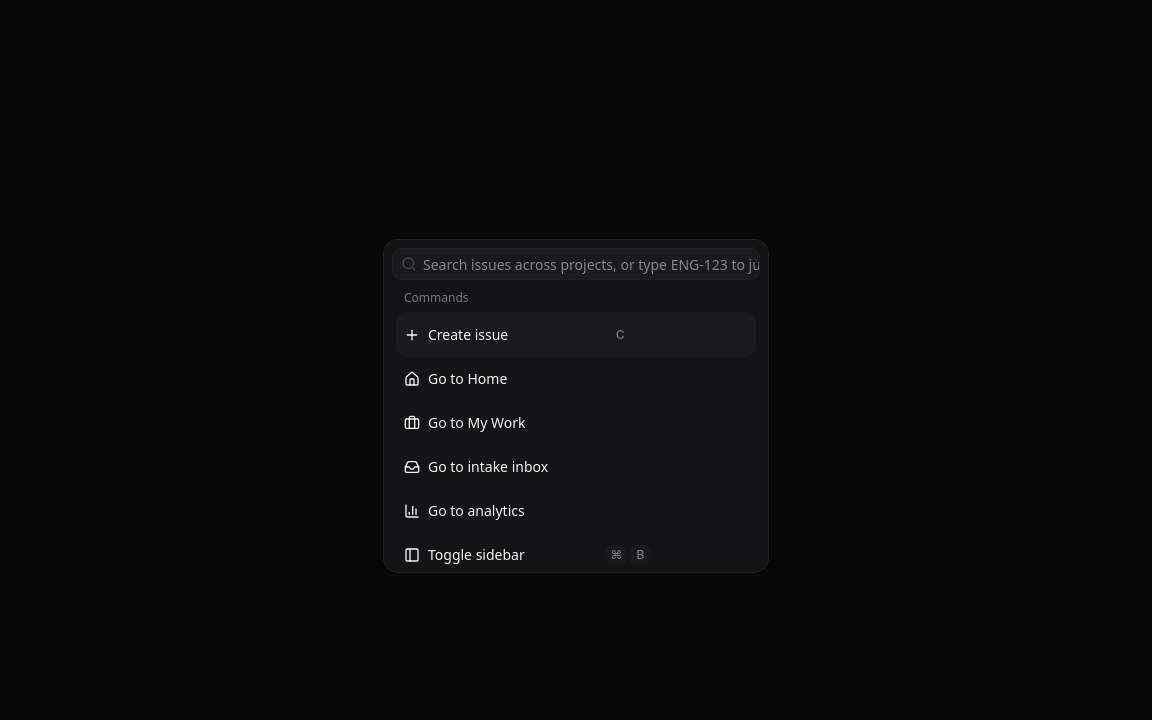
Test: global command palette › Backspace on the empty picker input returns to the root page
Click the option "Create issue C": [468, 334] box [396,312,756,357]
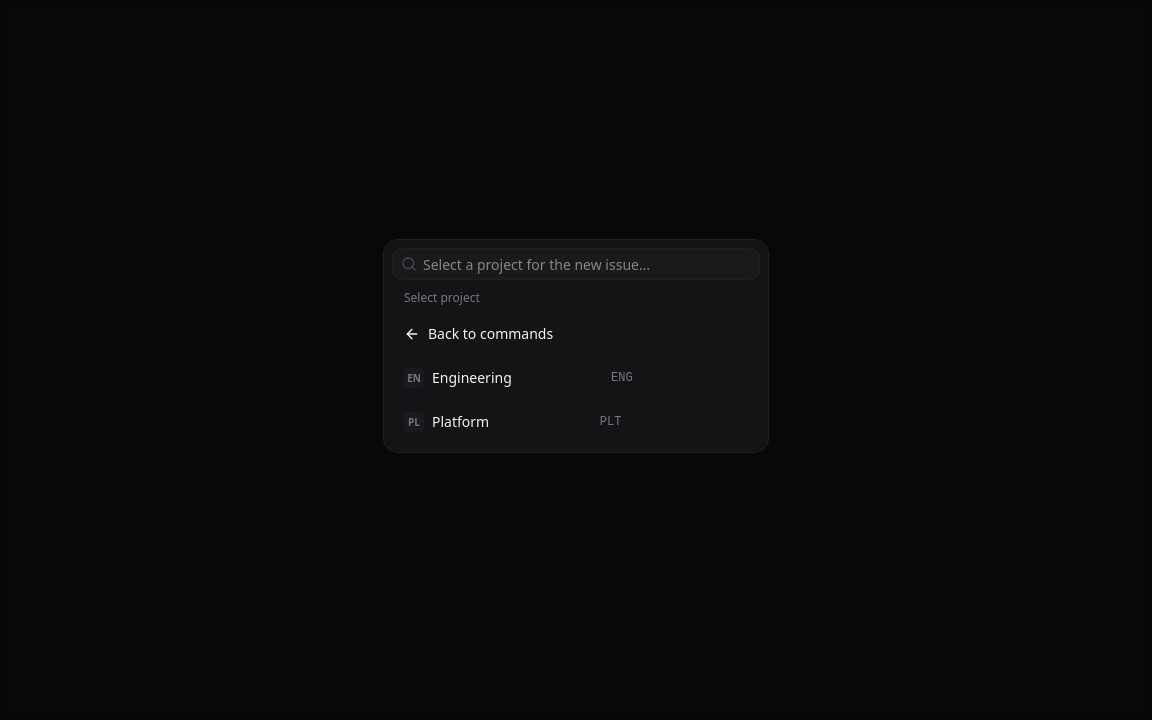
Now the dropdown with placeholder "Select a project for the new issue…" is shown
Press Backspace in the dropdown with placeholder "Select a project for the new issue…", box [417,240,759,288]
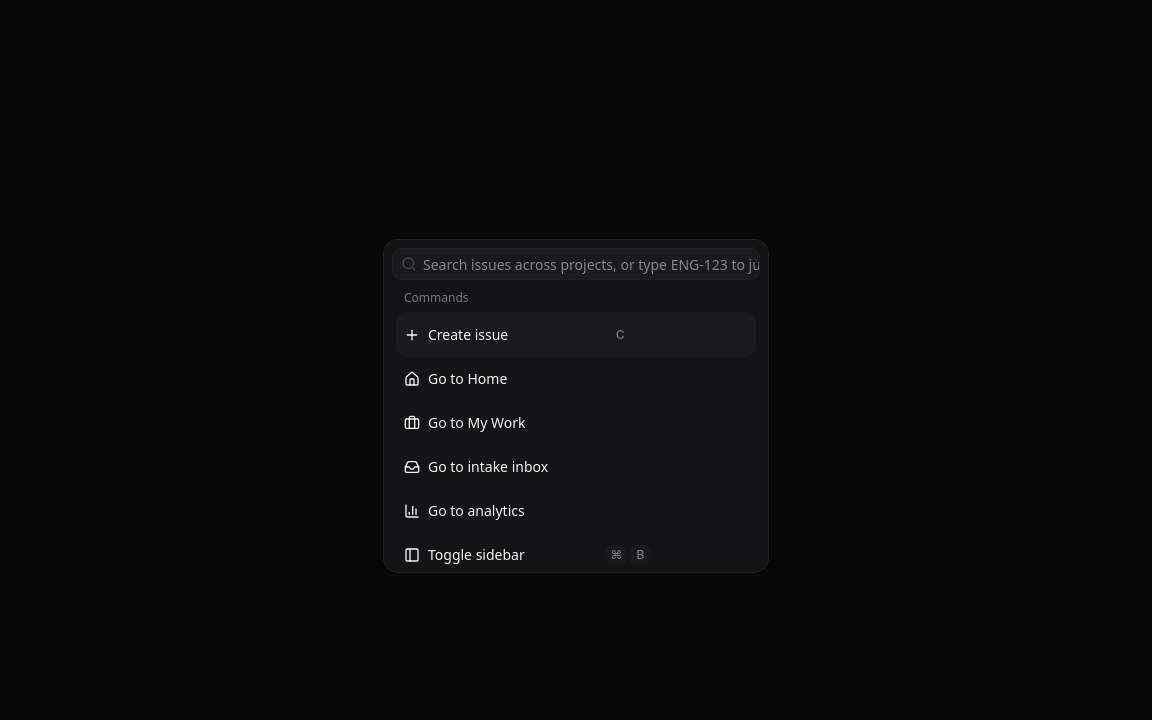
Now the dropdown with placeholder "Search issues across projects, or type ENG-123 to jump…" is shown, box [417,240,759,288]
